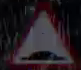Speed Breaker ahead: (5, 3, 76, 67)
